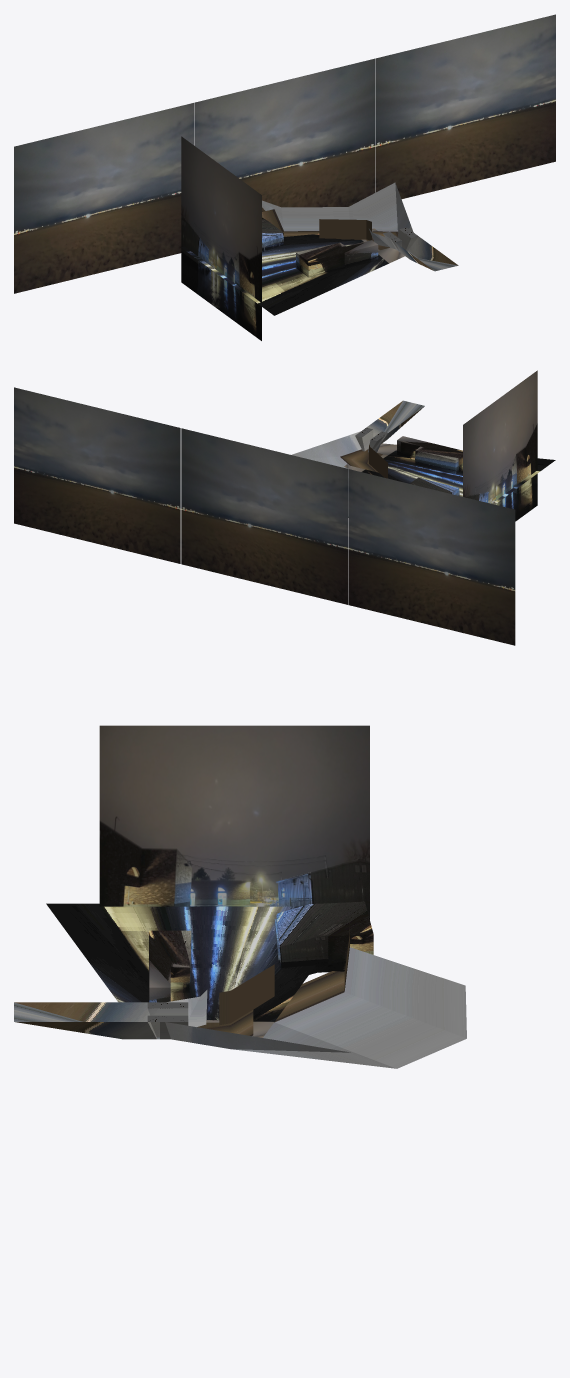
Rendered from photolevel1.glb.
The picture shows the model from 3 angles, top to bottom: view 1: azimuth 30°, elevation 25°; view 2: azimuth 150°, elevation 25°; view 3: azimuth 270°, elevation 25°; orthographic projection. The views are drawn at different scales.
Parts seen in each view (by area): view 1: school1-col; view 2: school1-col; view 3: school1-col.
Part boxes in pixels (left/top/right/bottom): school1-col: left=14, top=14, right=555, bottom=340; school1-col: left=14, top=370, right=555, bottom=645; school1-col: left=14, top=725, right=466, bottom=1068.
Bounding box in the file's own units: 457 × 138 × 236.
2 materials, 2 textured.
